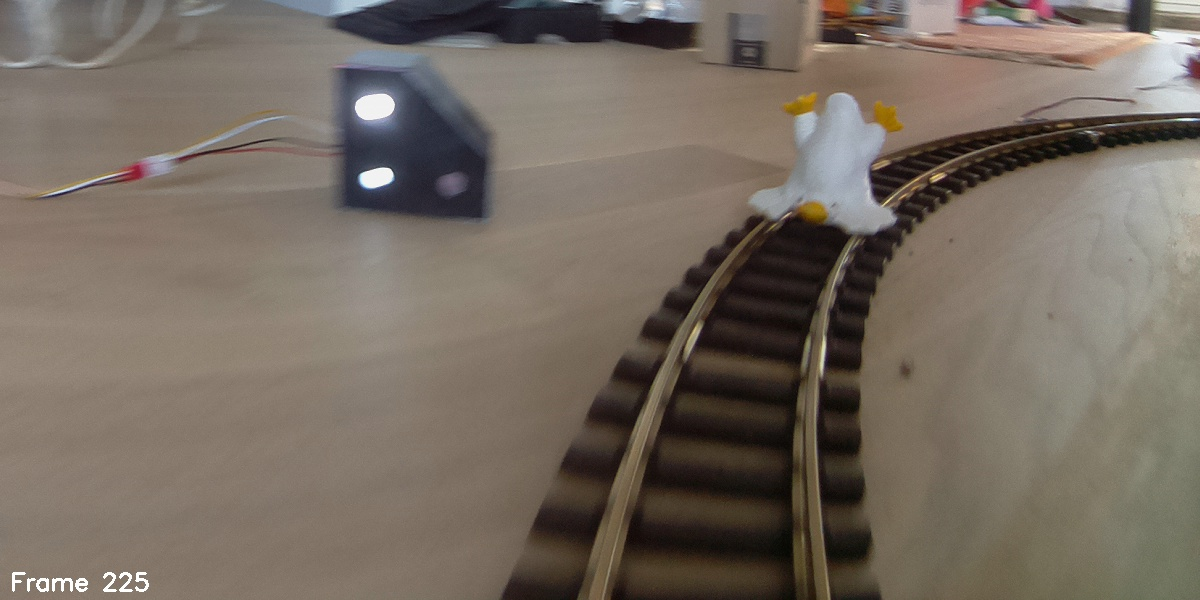Ente: (742, 84, 904, 244)
Fahrt: (337, 46, 493, 217)
